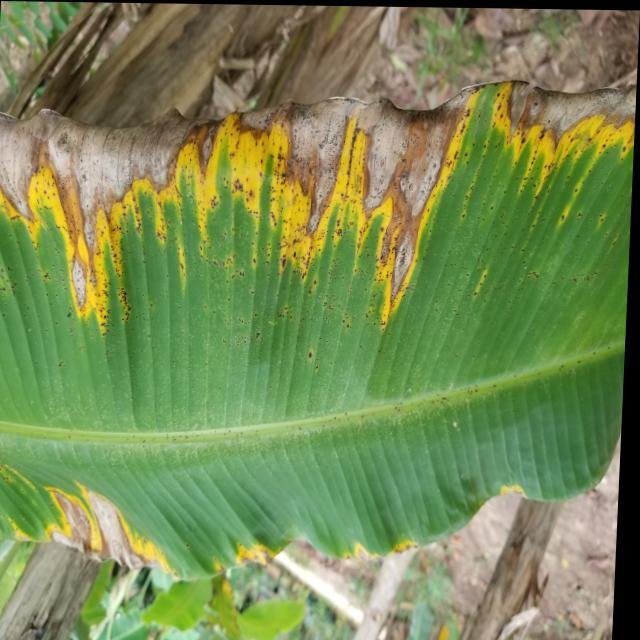Early_rust: (0, 50, 640, 363), (0, 374, 509, 631)
